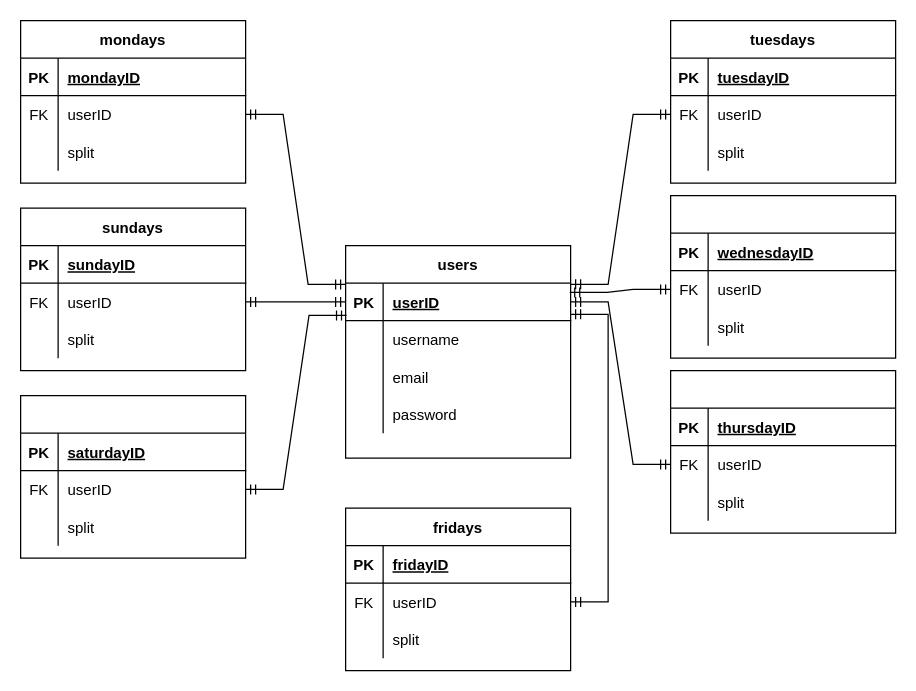
This 916x691 diagram has some shape labels left out. The box of each missing label's shape, as (x1, y1, x2, y2) in pixels:
saturdays: (19, 394, 246, 558)
thursdays: (669, 369, 896, 533)
wednesdays: (669, 194, 896, 358)
